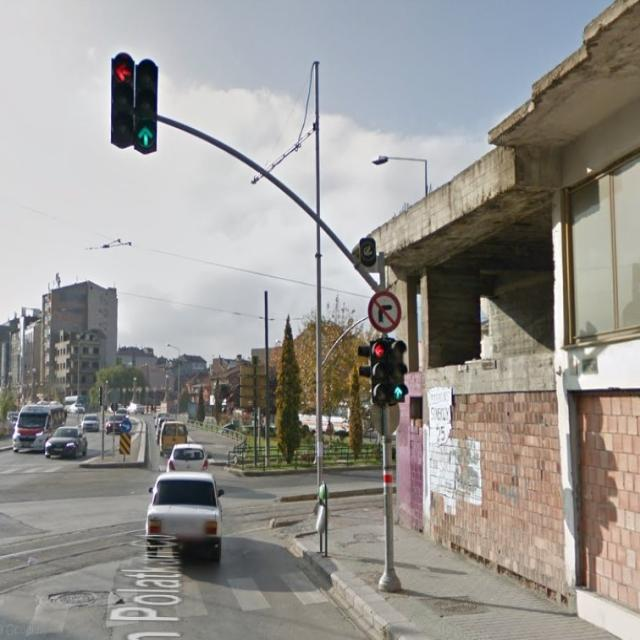sagadonulmez: (368, 290, 402, 332)
